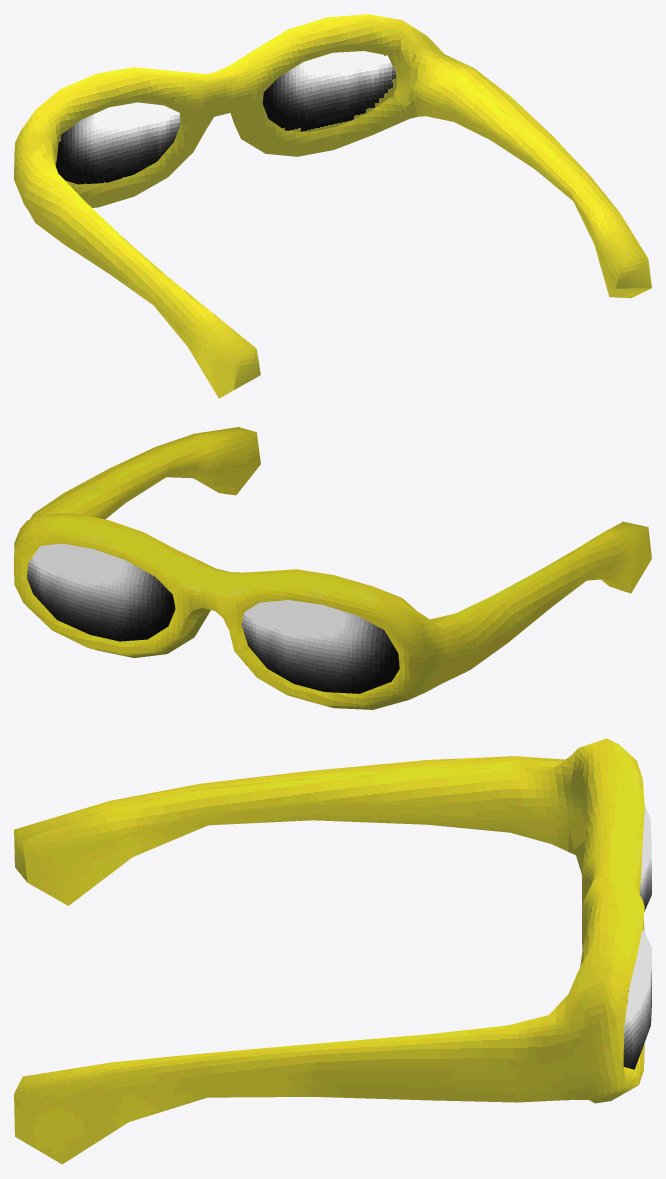
Rendered from ps2_save-icons_quepasanengelvideojuego.glb.
3 renders of one model, top to bottom at view 1: azimuth 30°, elevation 25°; view 2: azimuth 150°, elevation 25°; view 3: azimuth 270°, elevation 25°, orthographic. The views are drawn at different scales.
Parts seen in each view (by area): view 1: icon.ico; view 2: icon.ico; view 3: icon.ico.
Part boxes in pixels (box(x1,y1,x2,y2)): icon.ico: box(14, 14, 651, 398); icon.ico: box(14, 427, 651, 709); icon.ico: box(14, 738, 651, 1164).
Bounding box in the file's own units: 3 × 0.9126 × 2.72.
1 material, 1 textured.
